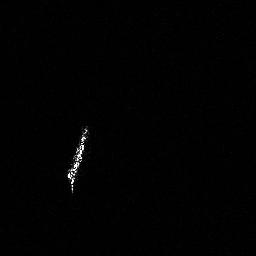ship: (63, 122, 92, 195)
